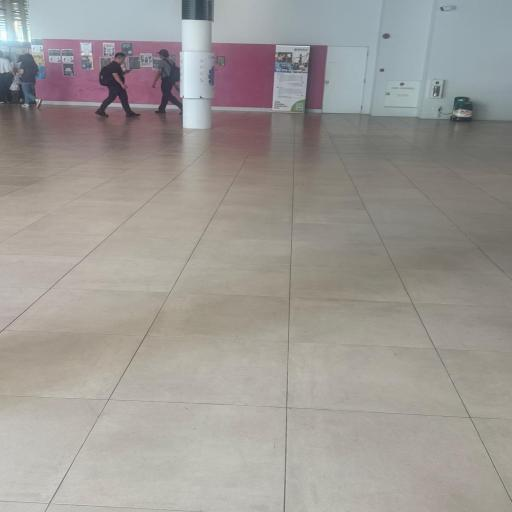person_left: (152, 49, 184, 114), (15, 53, 42, 109)
person_right: (94, 52, 142, 118)
